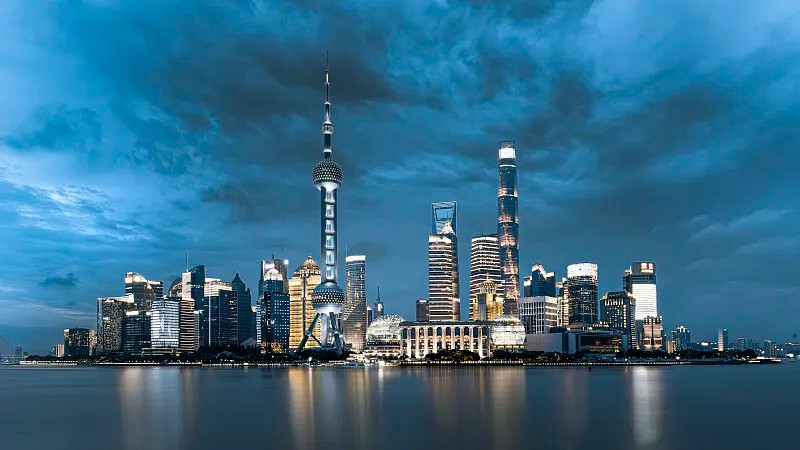Oriental: (295, 51, 346, 352)
